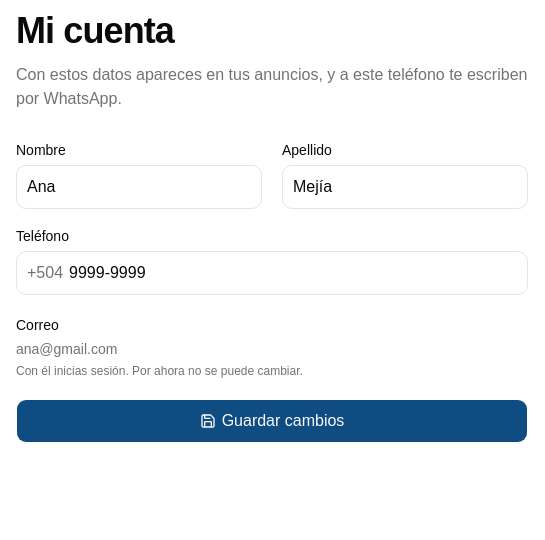
Test: AccountPage › si no se pudieron guardar lo avisa y deja reintentar
Click the button "Guardar cambios" at (272, 421), box 16,399 -> 528,443
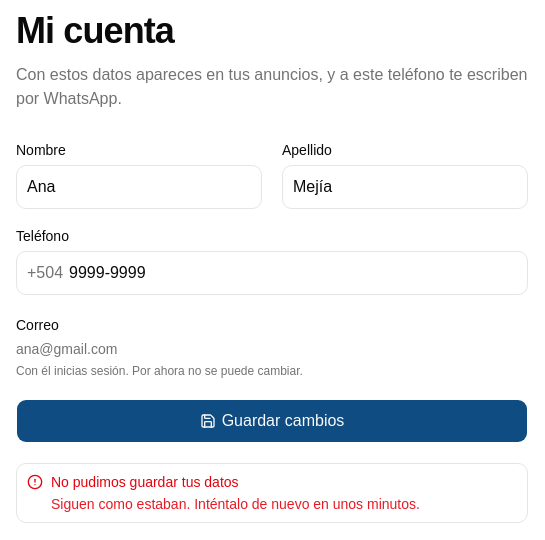
Expected: the message shows "No pudimos guardar tus datos", 51,474 -> 239,490
